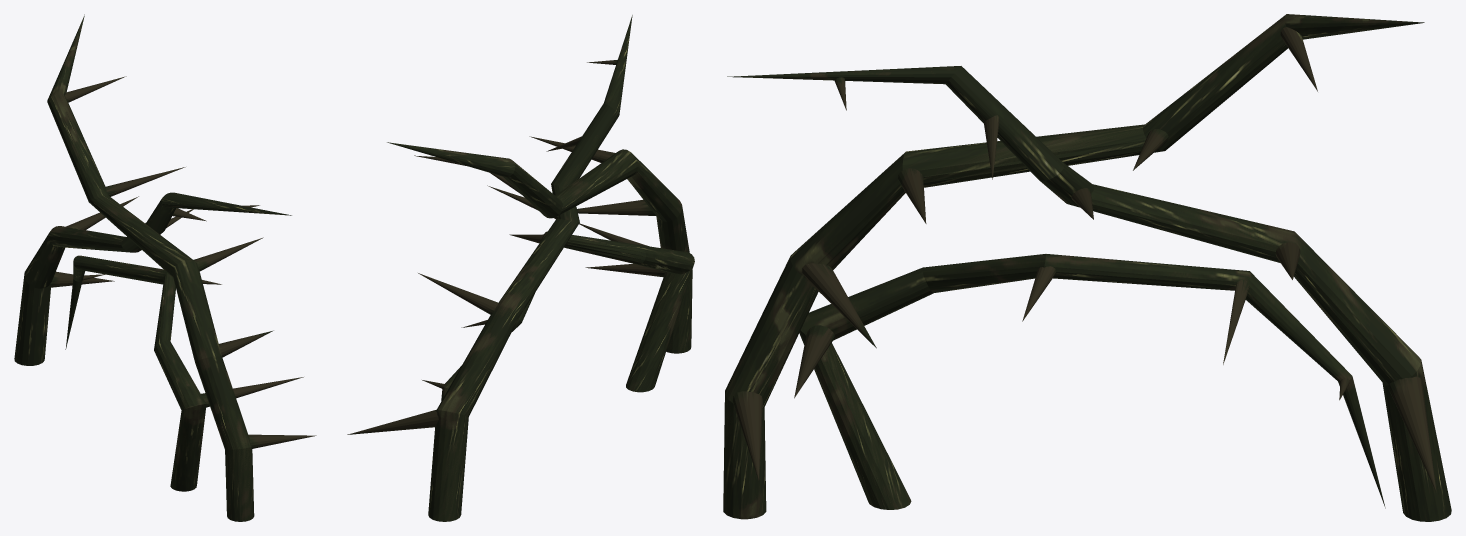
The model's file is kolce.obj.
The picture shows the model from 3 angles, left to right: view 1: azimuth 30°, elevation 25°; view 2: azimuth 150°, elevation 25°; view 3: azimuth 270°, elevation 25°; orthographic projection. The views are drawn at different scales.
Parts seen in each view (by area): view 1: Cylinder.001; view 2: Cylinder.001; view 3: Cylinder.001.
Boxes of the visible parts, <box> form: Cylinder.001: <box>14,14,316,521</box>; Cylinder.001: <box>347,15,694,521</box>; Cylinder.001: <box>723,14,1451,521</box>.
Bounding box in the file's own units: 4.74 × 11.82 × 14.66.
1 material, 1 textured.
